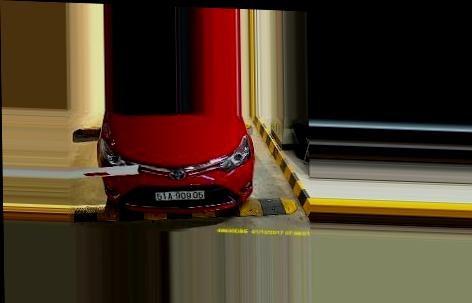License_Plate: (154, 187, 210, 203)
